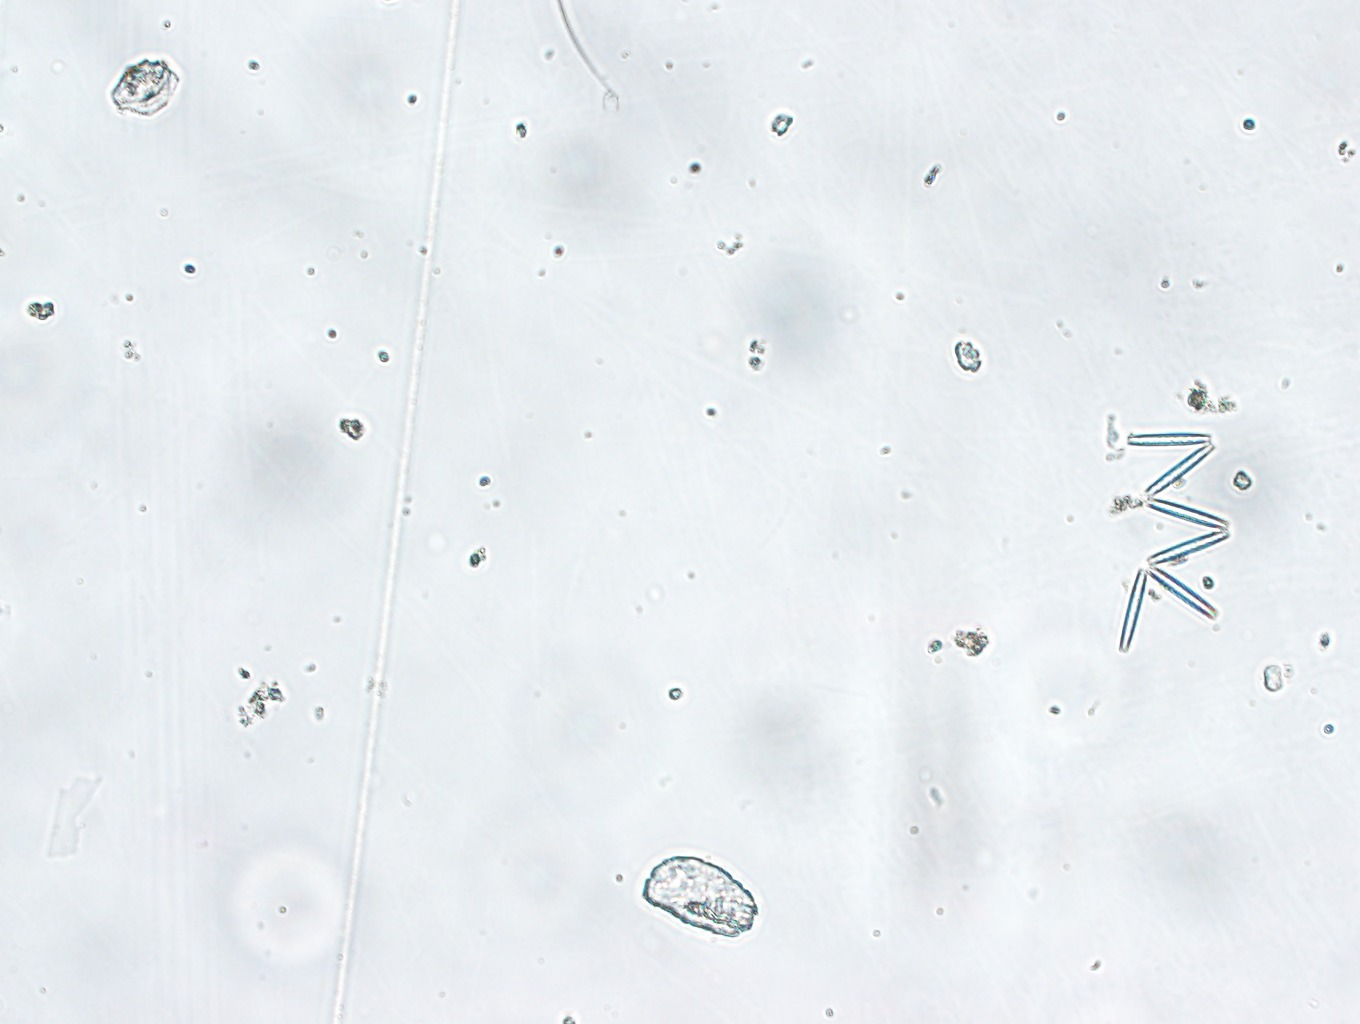thalassionema nitzschioides: (1108, 415, 1233, 655)
